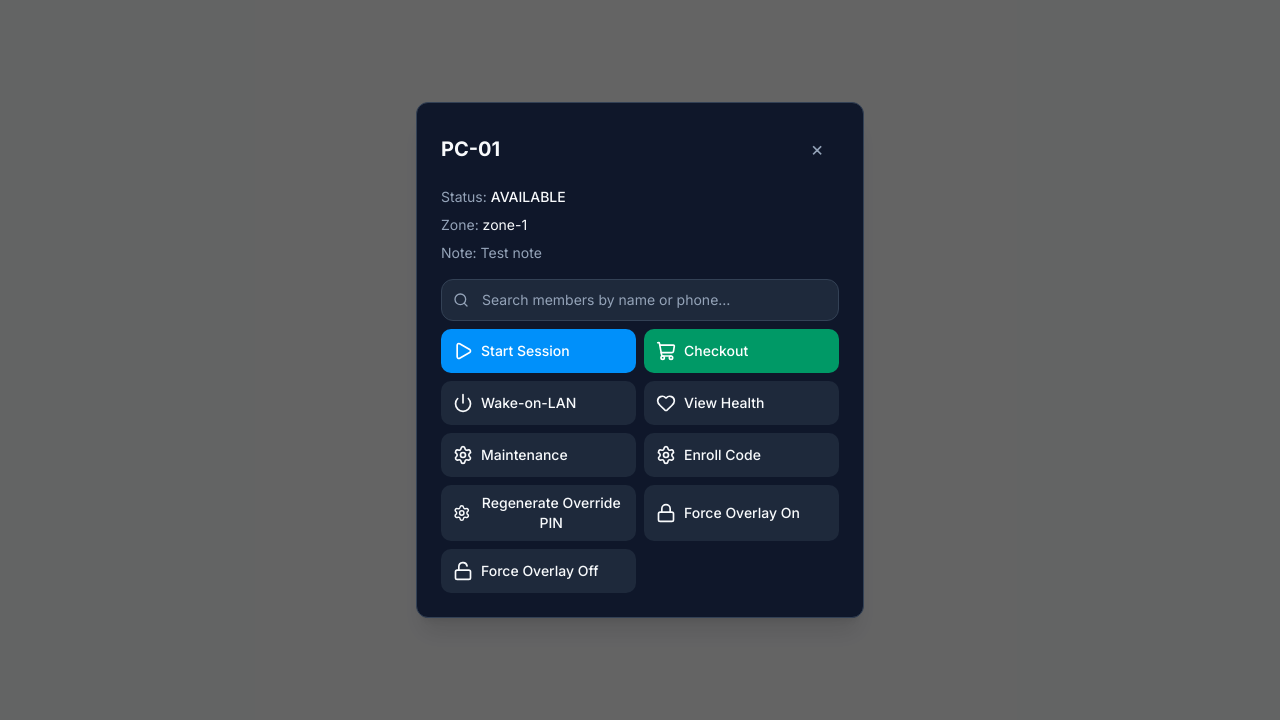
Scenario: SeatActionModal maintenance (C.11) › ESC in the note field aborts maintenance mode
This screenshot has width=1280, height=720.
Click the button "Maintenance" at [538, 455], box x1=441 y1=433 x2=636 y2=477
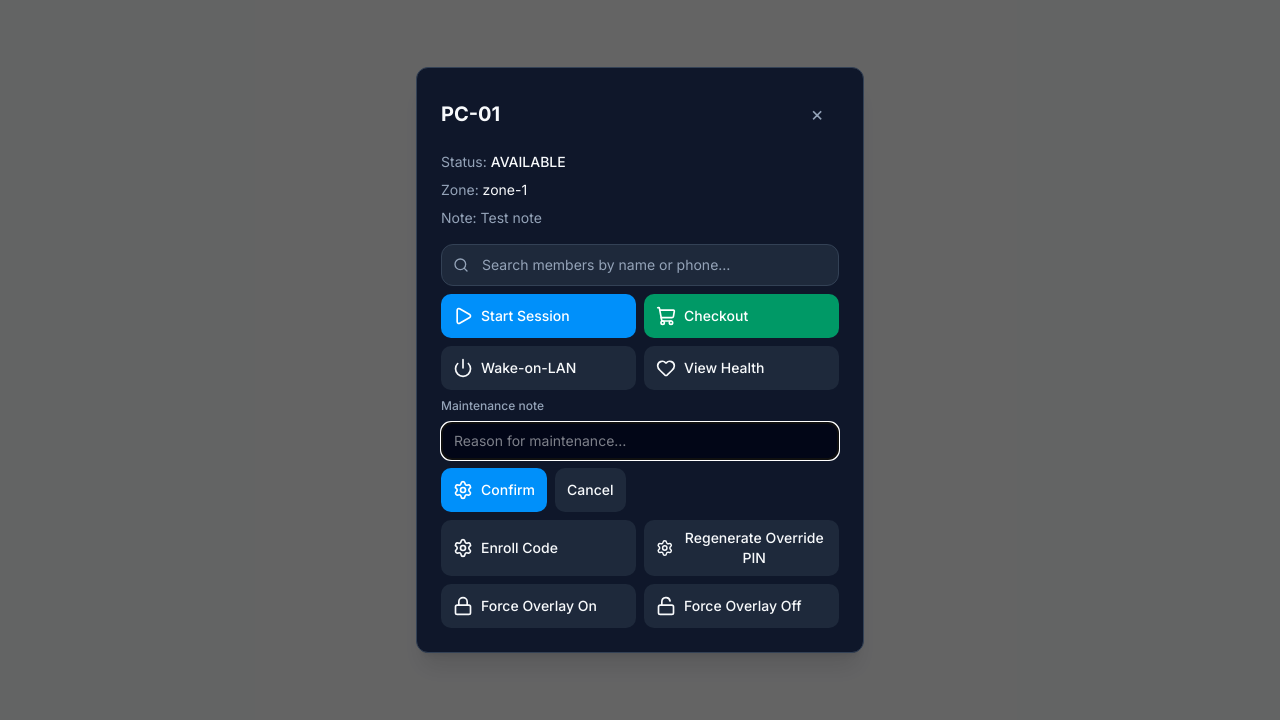
Press Escape in the field labelled "Maintenance note", box x1=441 y1=422 x2=839 y2=460
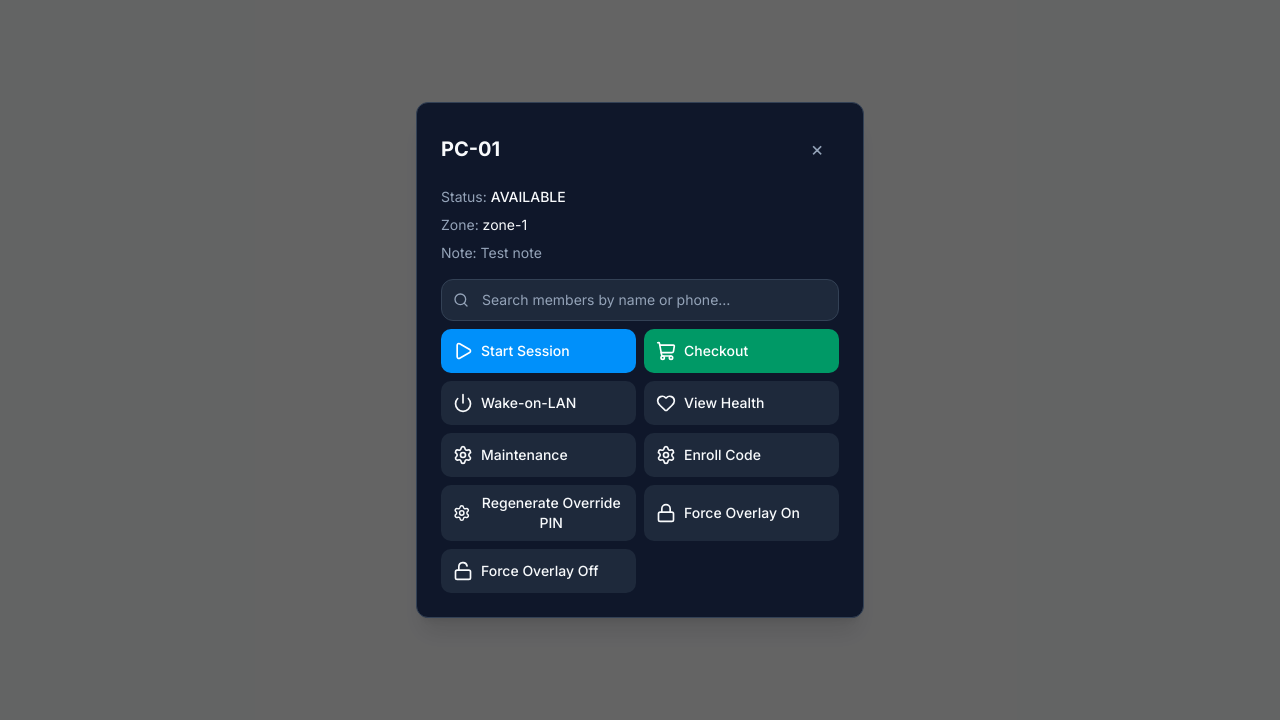
Now the label labelled "Maintenance note" is gone
